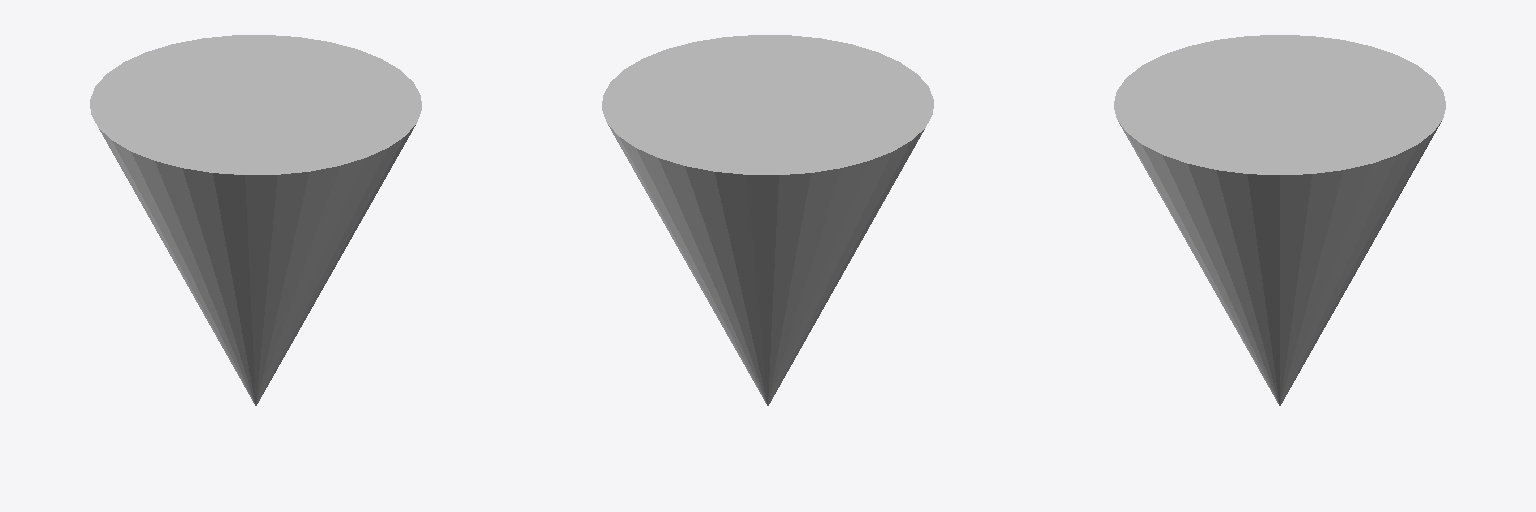
The model's file is cone_bulb4.obj.
The picture shows the model from 3 angles: view 1: azimuth 30°, elevation 25°; view 2: azimuth 150°, elevation 25°; view 3: azimuth 270°, elevation 25°; orthographic projection.
Visible parts, largest first — view 1: Cone.003_Cone.004; view 2: Cone.003_Cone.004; view 3: Cone.003_Cone.004.
Boxes of the visible parts, <box> form: Cone.003_Cone.004: <box>90,35,421,405</box>; Cone.003_Cone.004: <box>602,35,933,405</box>; Cone.003_Cone.004: <box>1114,35,1445,405</box>.
Size of the model in its own units: 0.9578 by 0.9578 by 0.9578.